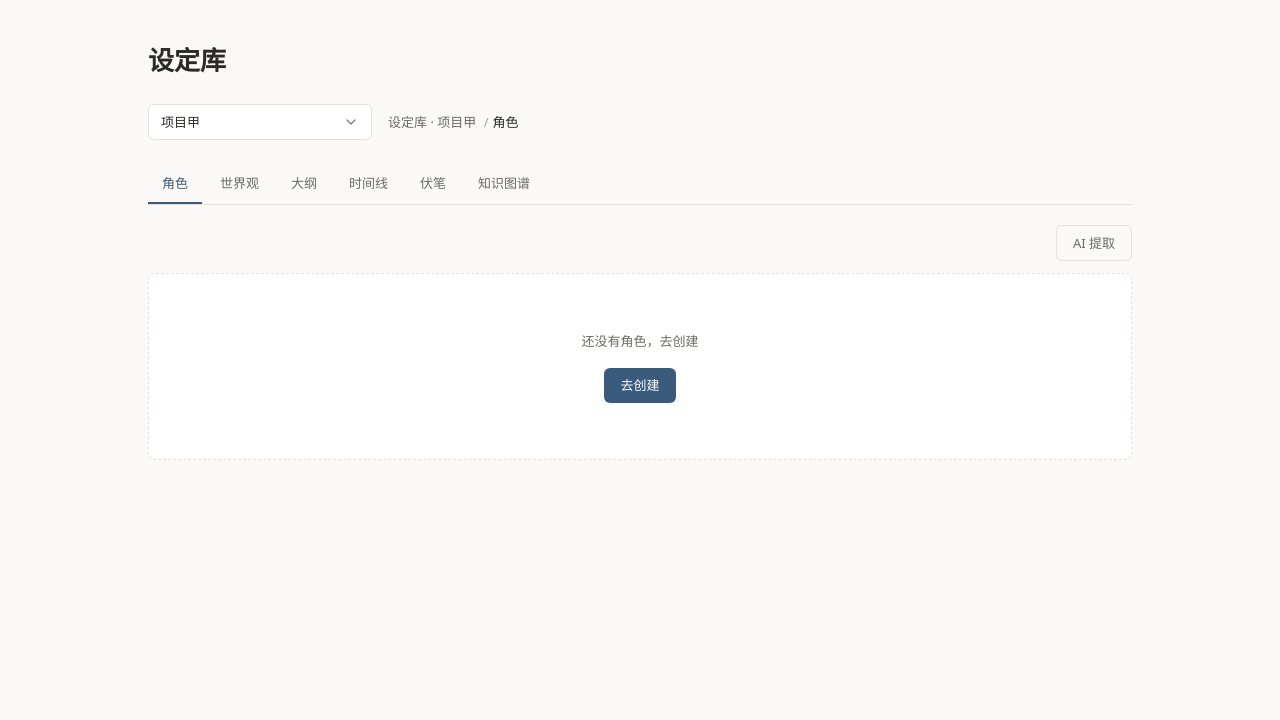
Test: 地图工作台修复契约（#973 快照刷新 / #978 删除钮重叠 / #979 pin 标签与点击） › K3【R】reloadKey 变化（新建分类保存）→ maps 重拉（reloadKey 纳入 effect 依赖，同族列表都吃唯独 maps 不吃属遗漏面）
The width and height of the screenshot is (1280, 720).
Click the tab "世界观".
click(240, 184)  # box [206,164,273,204]
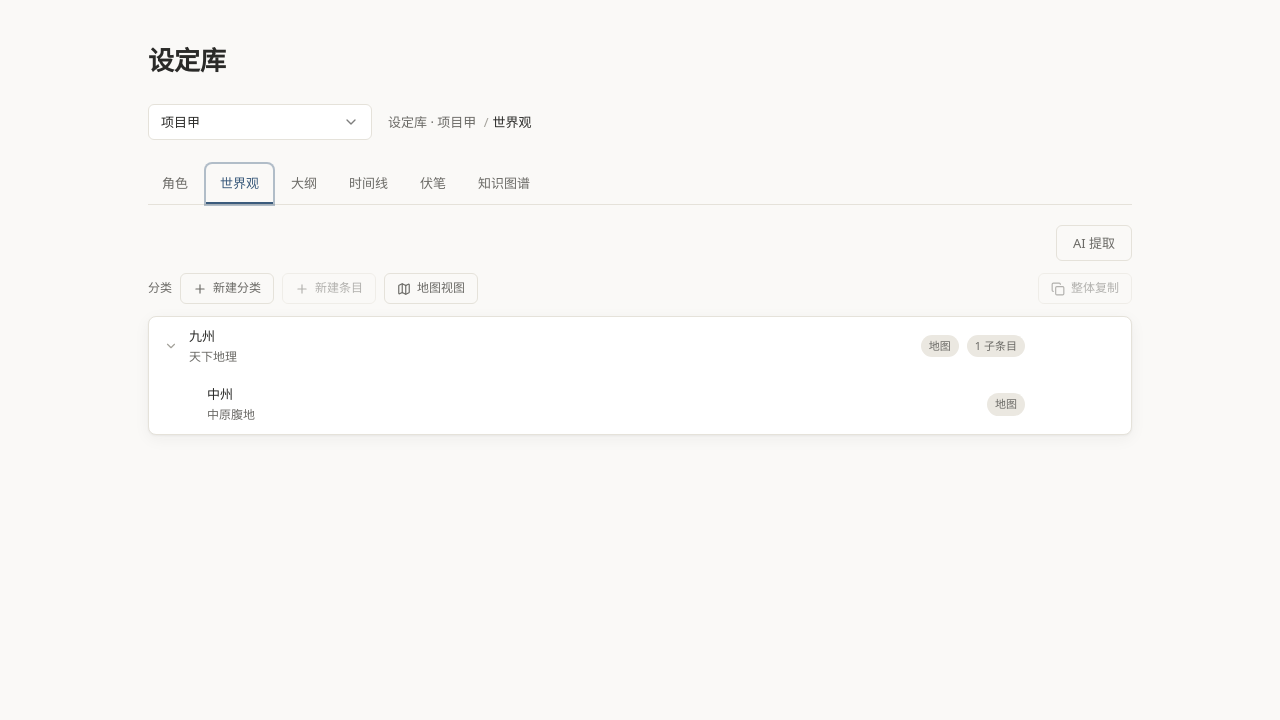
Result: the element with test id "library-list" is shown at [148,316,1132,435]
// 新建分类 → POST → hook onSaved → setReloadKey+1 → maps effect 应重跑
Click the button with test id "world-cat-add".
click(227, 289)  # box [180,273,274,304]
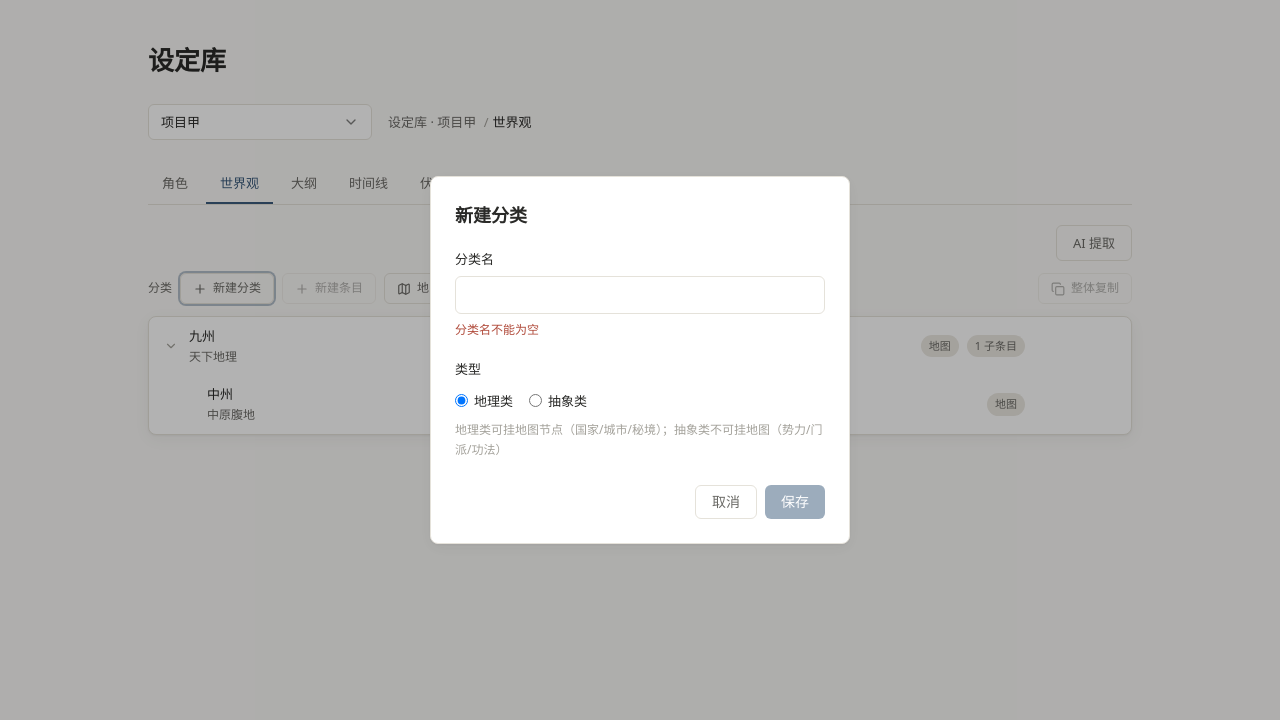
Type "势力" into the field with test id "world-cat-name".
click(640, 295); type("势力")  # box [455,276,825,314]
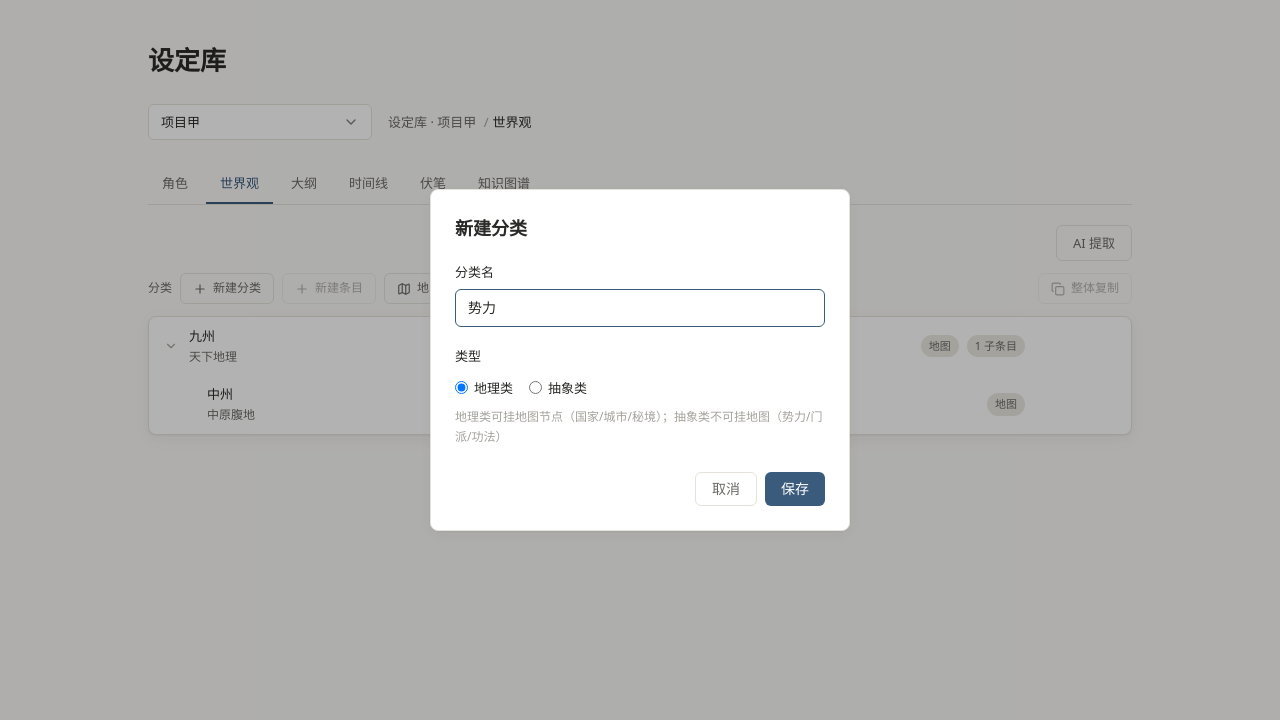
Click the button with test id "world-cat-save".
click(795, 488)  # box [765,472,825,506]
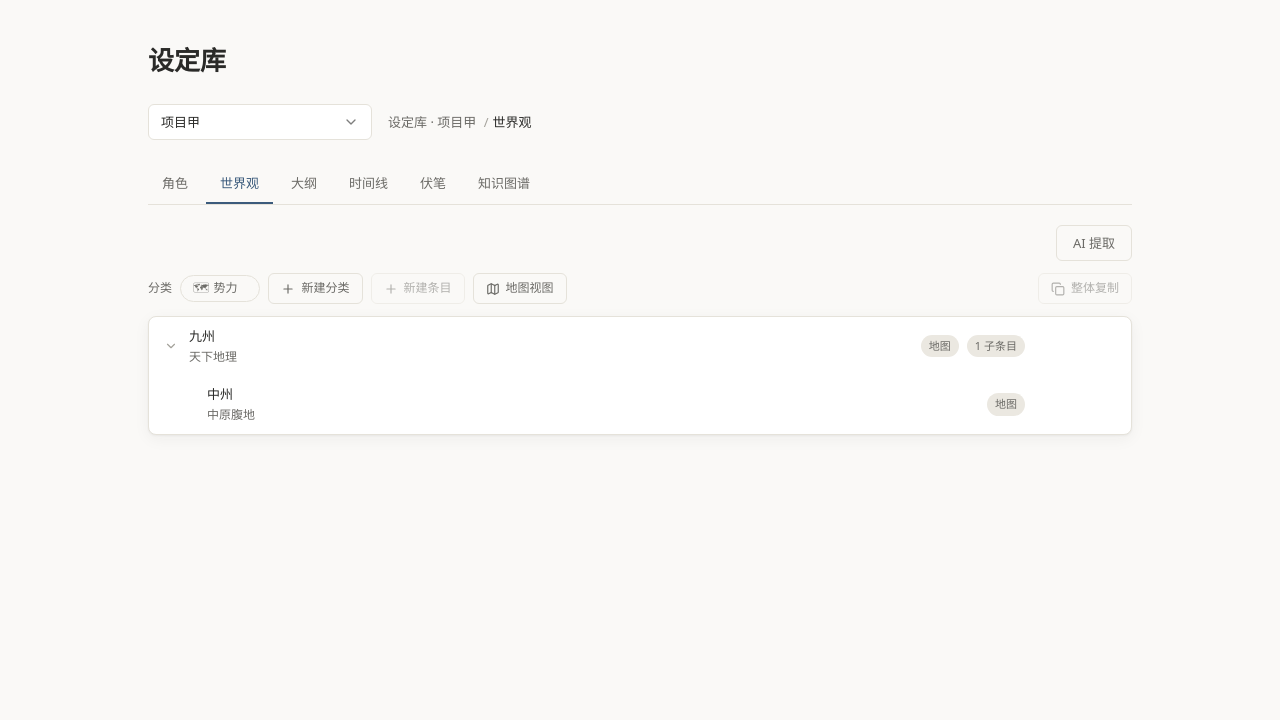
Result: the button with test id "world-cat-filter-势力" is shown at [193,278,238,299]
